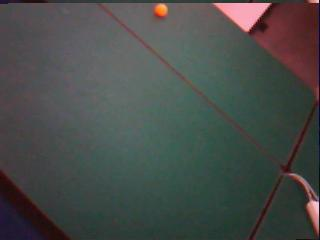oball: (154, 4, 168, 16)
